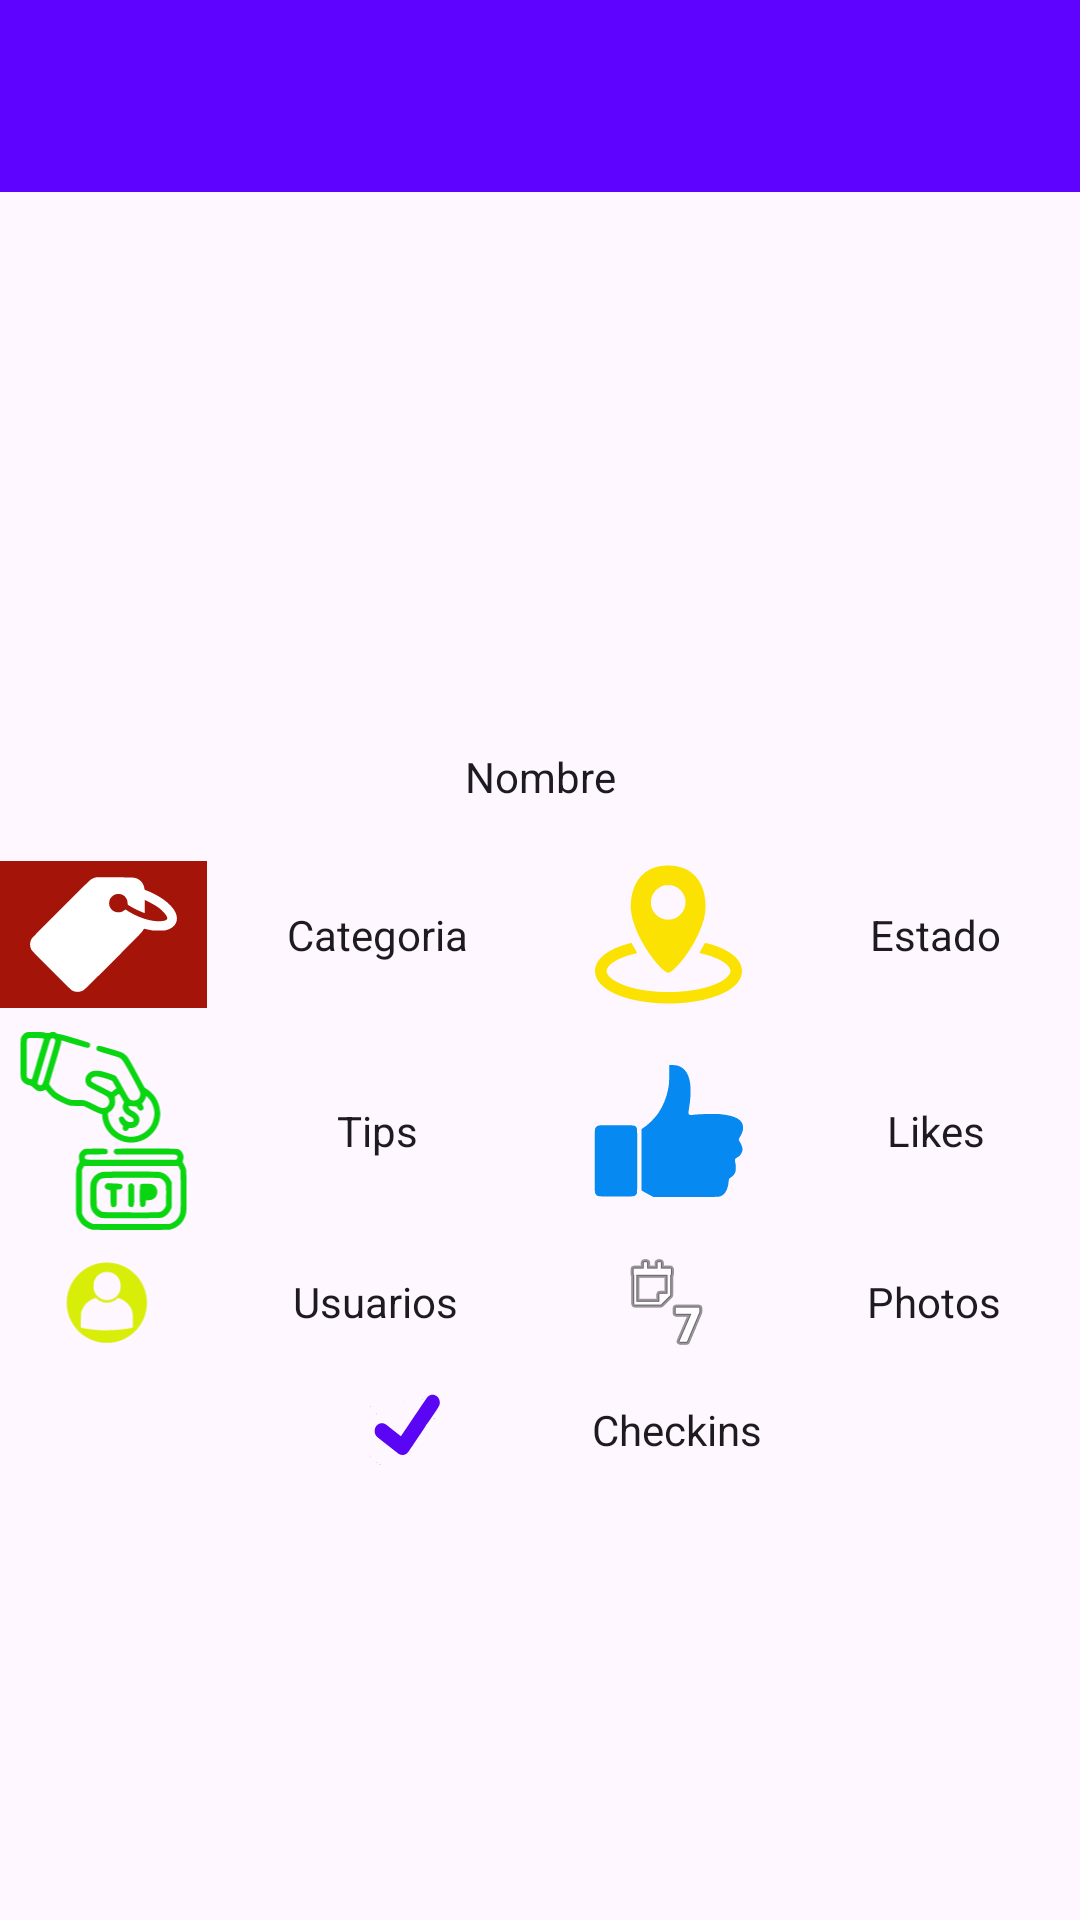

Named icons in this screenshot (1080×1920) and their bounding boxes, (x1, y1, x2, y2):
etiquetas: (0, 861, 207, 1008)
lugares: (595, 865, 742, 1004)
week: (630, 1259, 703, 1345)
